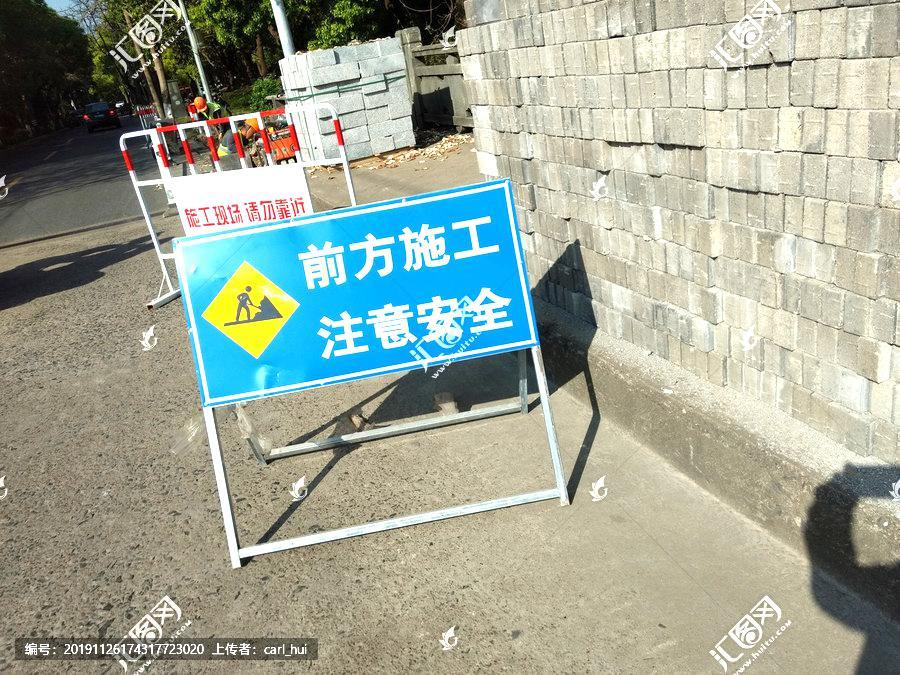sign: (176, 200, 518, 397)
